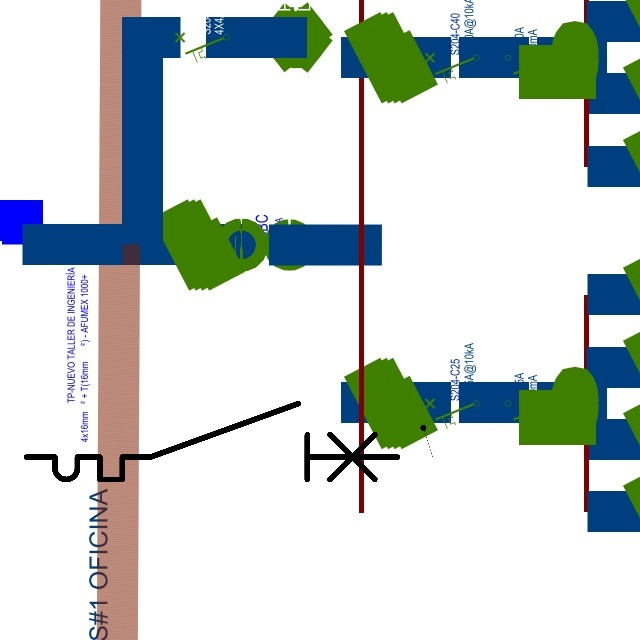interruptor_termomagnetico: (17, 394, 407, 489)
